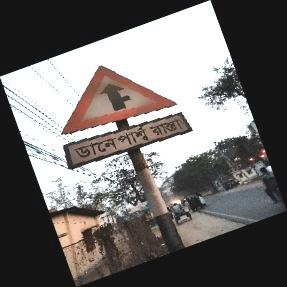Side-road-right: (60, 65, 187, 171)
